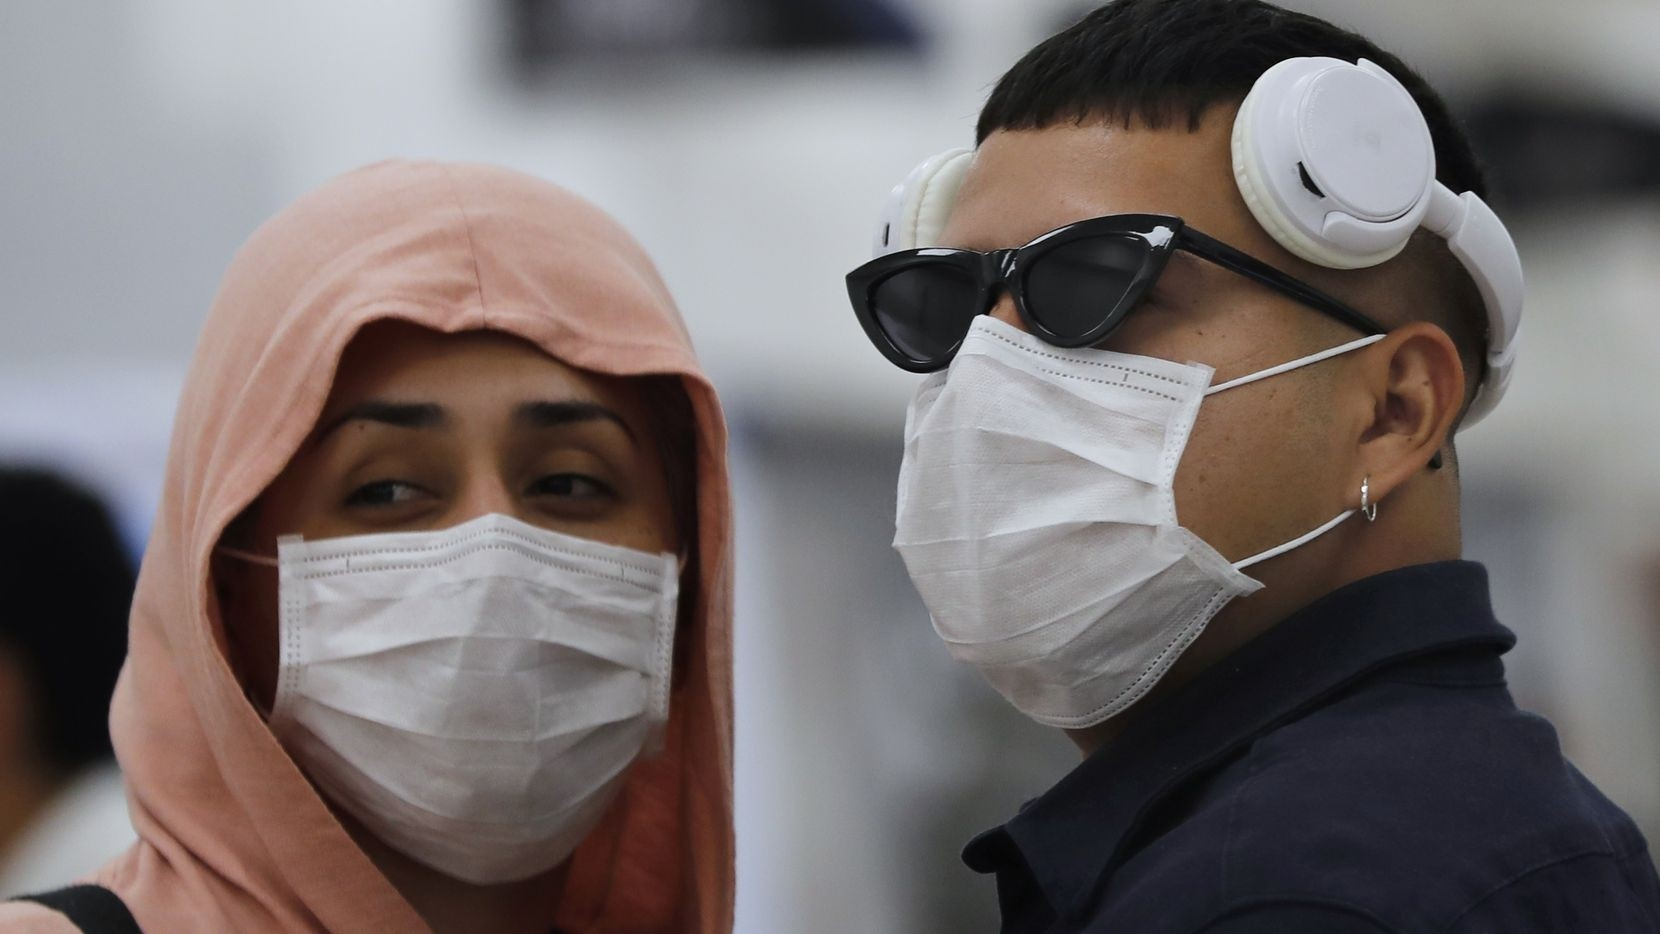face_with_mask: (820, 30, 1480, 785), (210, 269, 700, 918)
